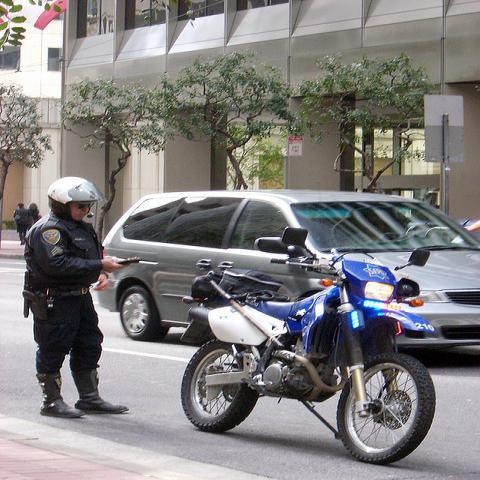car: (98, 189, 479, 348)
motorcycle: (180, 225, 438, 465)
